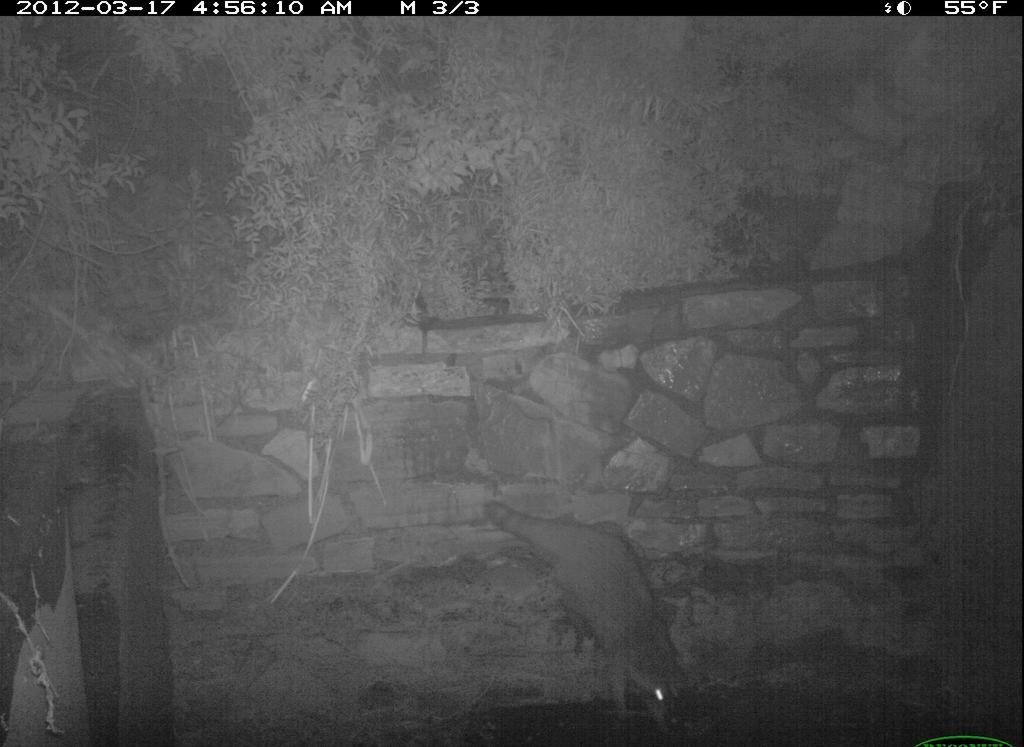raccoon: (481, 486, 707, 728)
